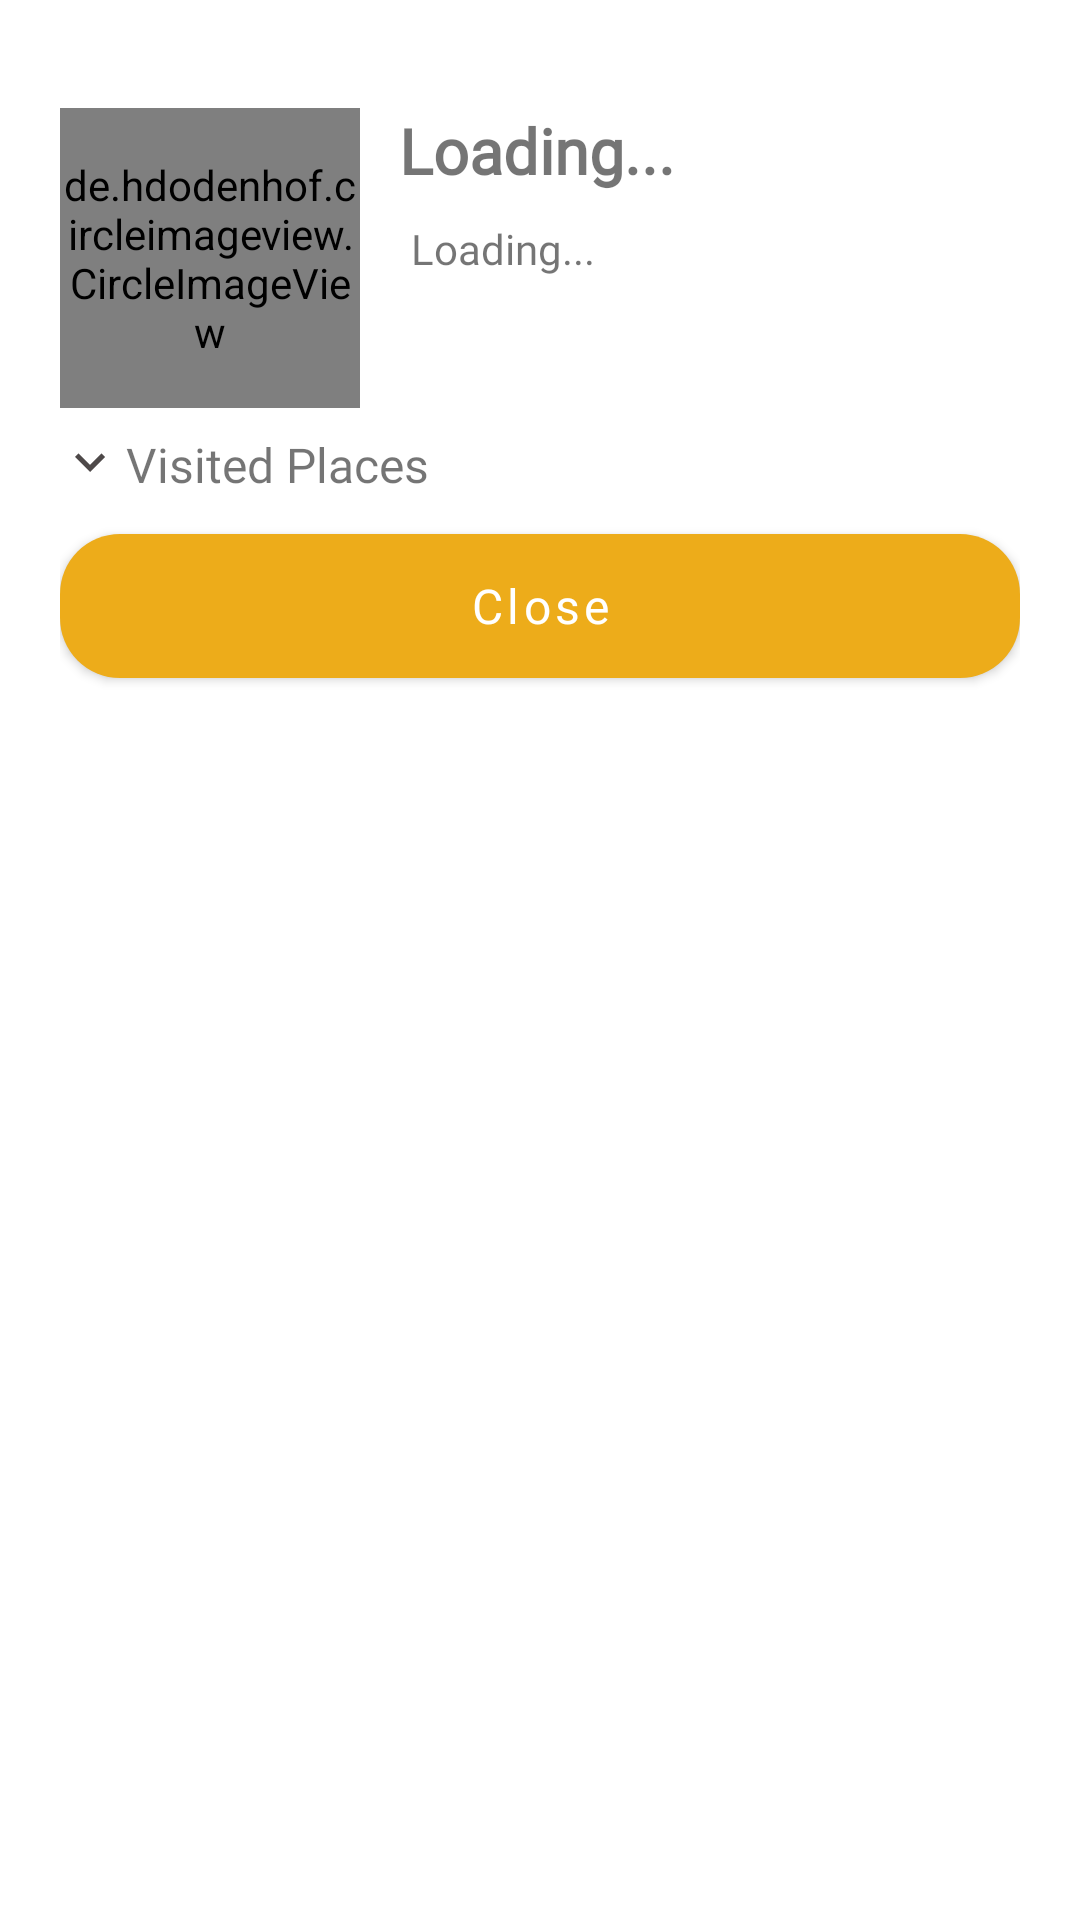

Point at icon controls on the screen. Image size 1080x1920, points as (x=x, y=y).
down: (x=90, y=462)
